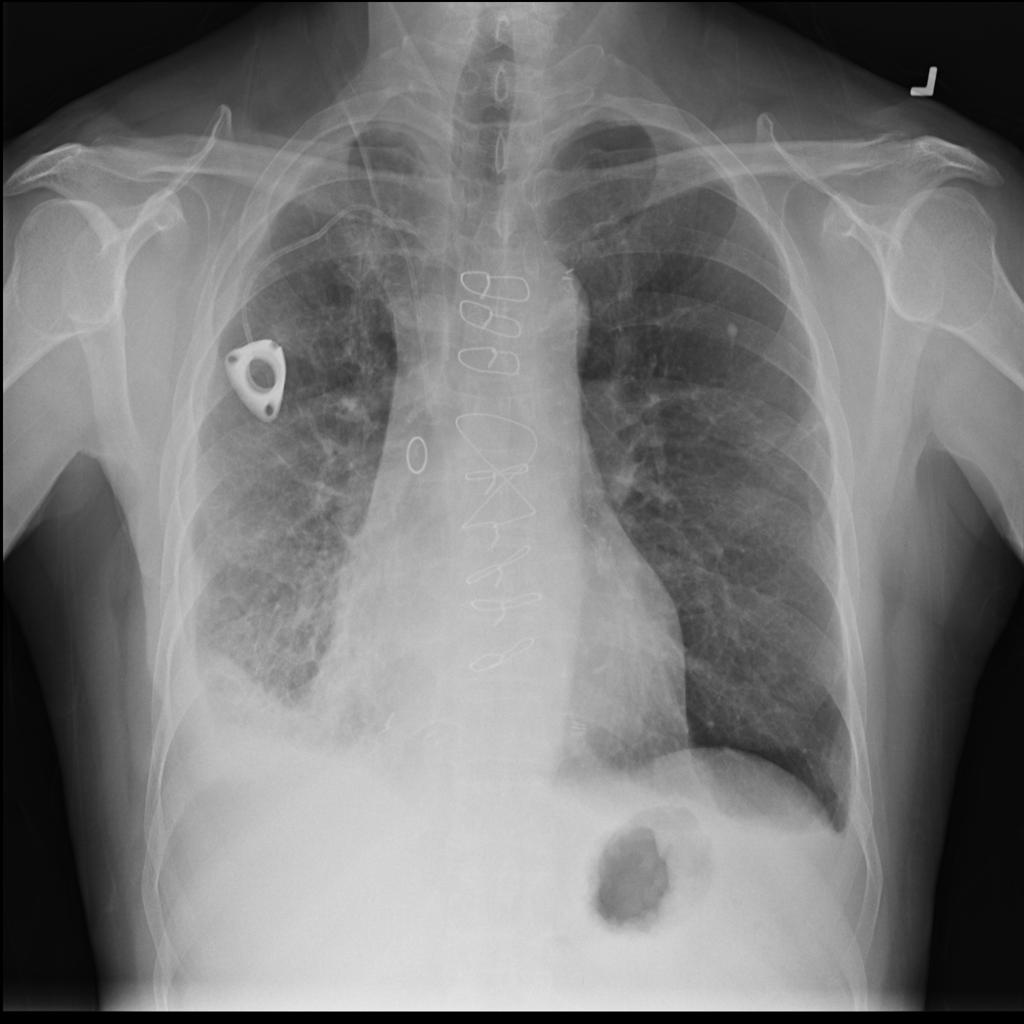nodule: (718, 310, 750, 351)
